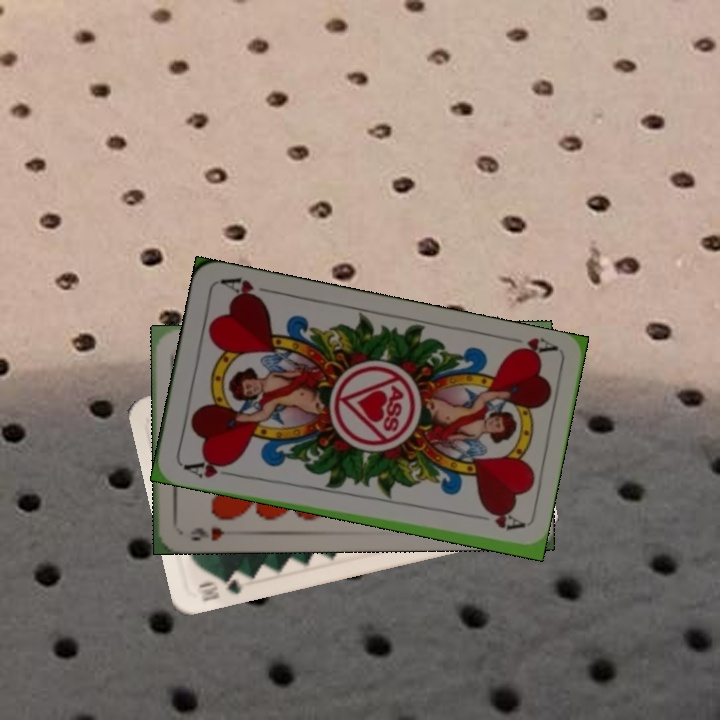G10: (192, 569, 250, 604)
H9: (186, 523, 227, 543)
HA: (506, 333, 560, 362), (179, 455, 237, 481)
